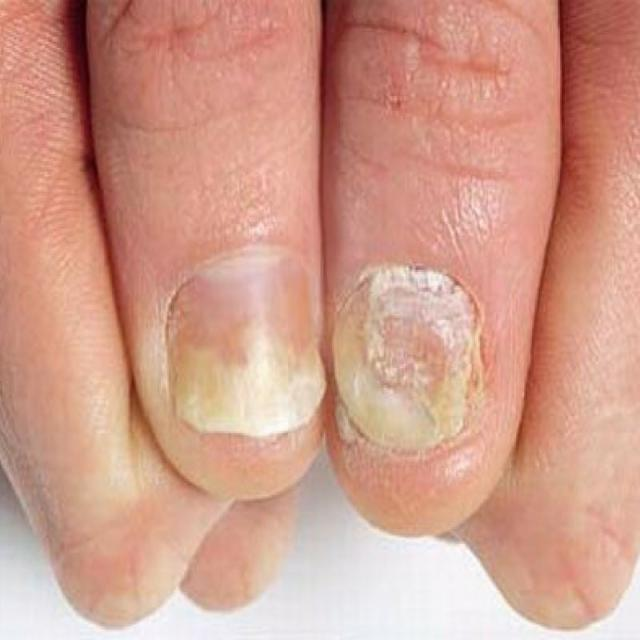diabetes: (168, 251, 328, 434), (331, 274, 479, 455)
